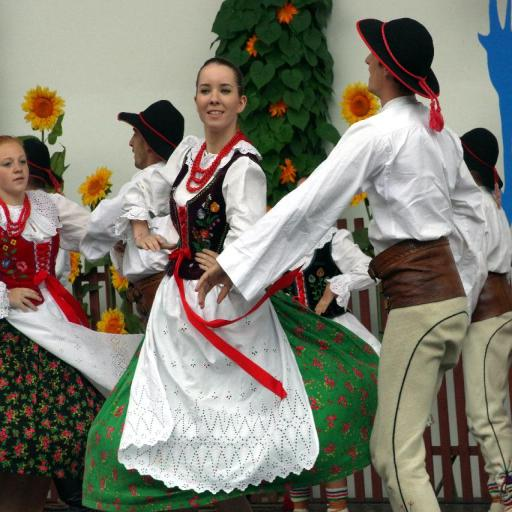Person: (251, 32, 499, 486), (126, 54, 308, 476), (0, 126, 137, 470), (90, 102, 180, 236)
no_gloves: (194, 263, 236, 314), (310, 268, 348, 319), (0, 273, 46, 314), (124, 220, 170, 259), (191, 238, 218, 271)
no_goggle: (187, 94, 236, 122), (0, 161, 37, 181), (361, 66, 381, 96)
no_helmet: (334, 29, 454, 134), (104, 97, 186, 175), (180, 67, 252, 124), (0, 135, 37, 189)
none: (334, 123, 500, 300), (144, 144, 264, 278), (0, 191, 92, 313)
